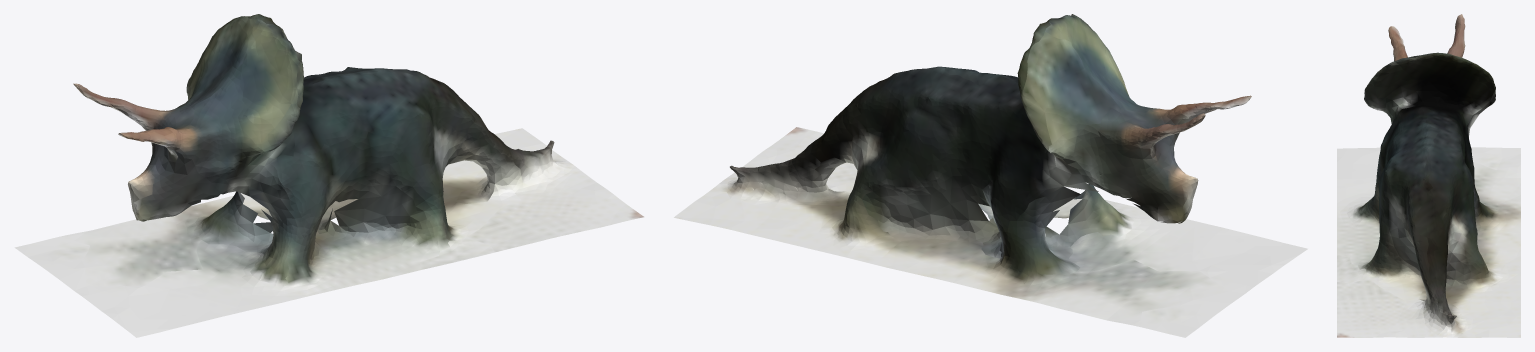
The model's file is torikera.glb.
The picture shows the model from 3 angles, left to right: view 1: azimuth 30°, elevation 25°; view 2: azimuth 150°, elevation 25°; view 3: azimuth 270°, elevation 25°; orthographic projection. The views are drawn at different scales.
Visible parts, largest first — view 1: mesh; view 2: mesh; view 3: mesh.
Part boxes in pixels (x1,y1,x2,y2): mesh: (14,14,643,337); mesh: (674,14,1307,337); mesh: (1337,14,1520,337).
Bounding box in the file's own units: 0.2358 × 0.1004 × 0.0982.
1 material, 1 textured.
